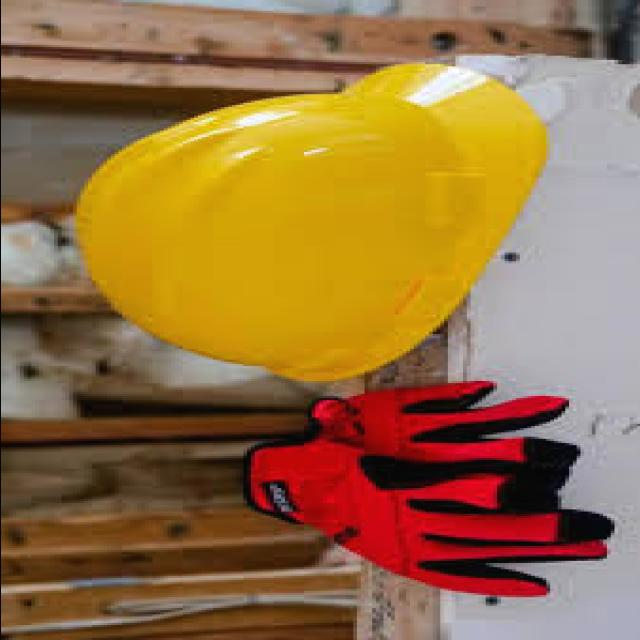Gloves: (204, 442, 614, 605), (284, 380, 588, 500)
Hard Hat: (48, 55, 640, 393)
